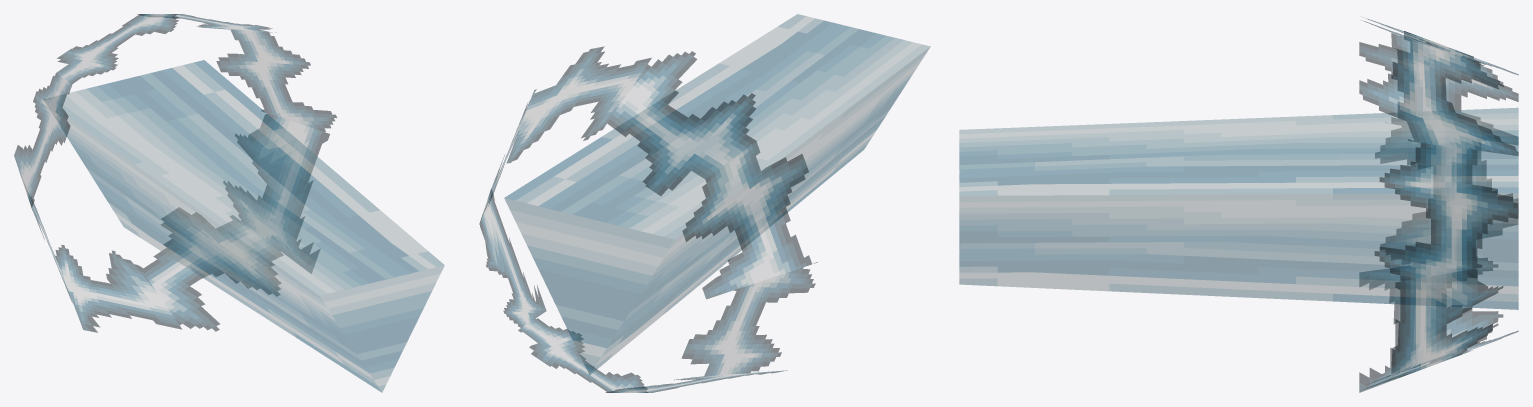
Rendered from 90_efe.gltf.
3 views of the same model, side by side, from view 1: azimuth 30°, elevation 25°; view 2: azimuth 150°, elevation 25°; view 3: azimuth 270°, elevation 25° (orthographic). The views are drawn at different scales.
Size of the model in its own units: 144 by 144 by 200.
1 material, 1 textured.
